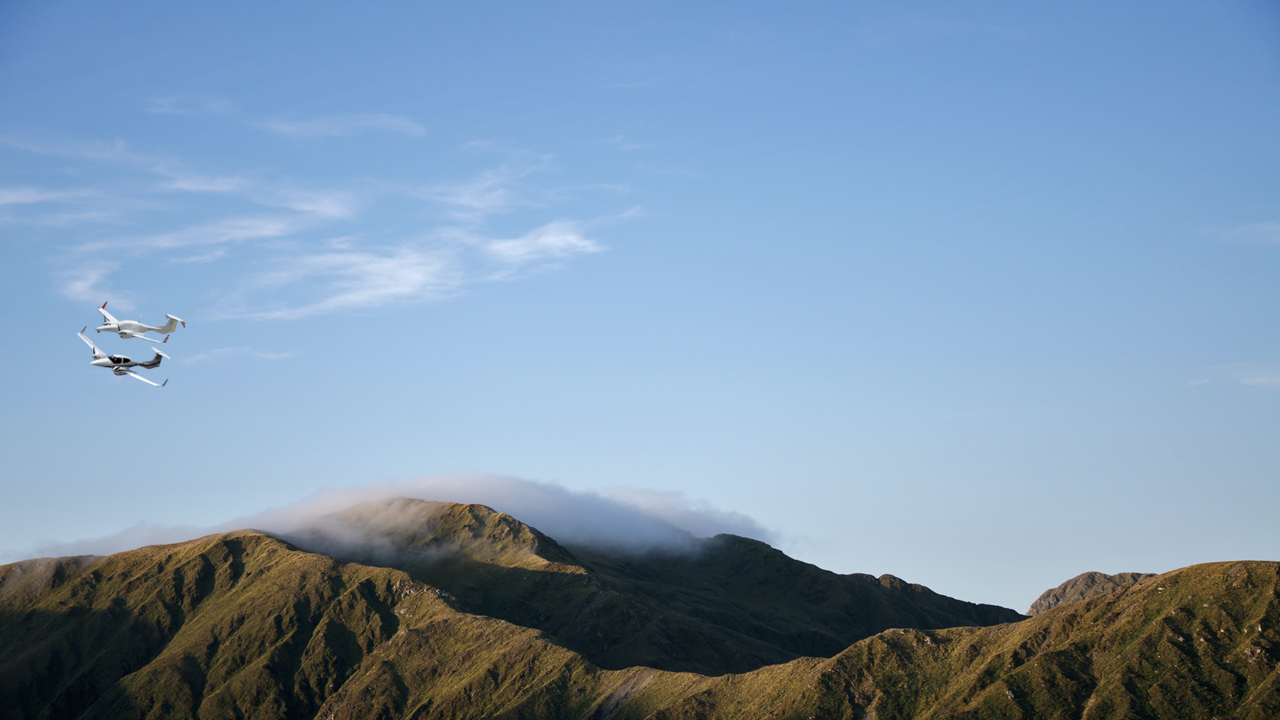military drone: (76, 325, 170, 387), (94, 300, 185, 344)
